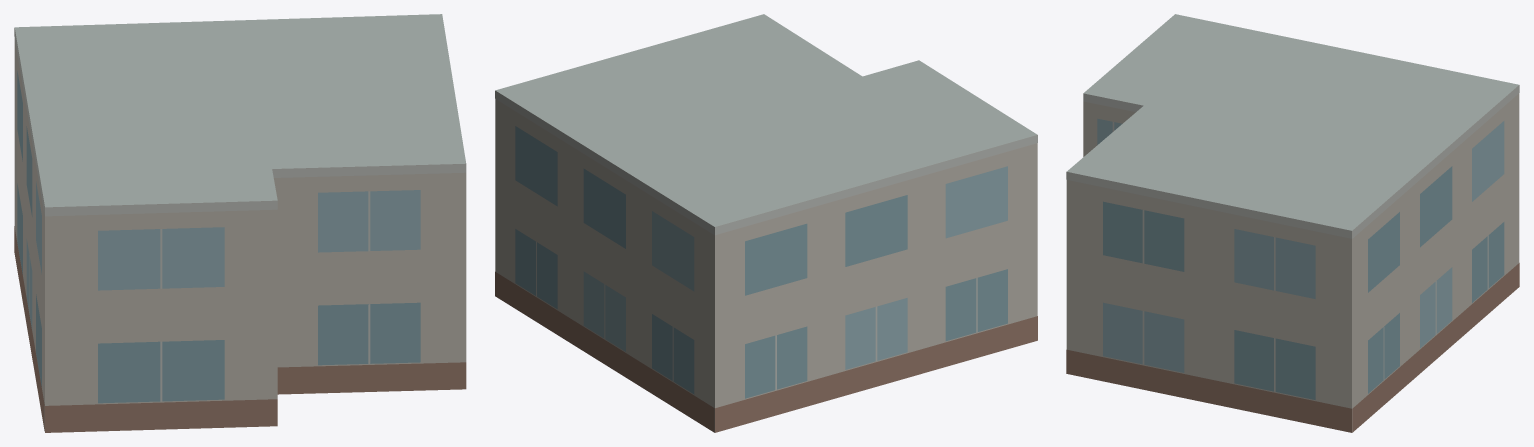
File: survey-upis-32828752.glb
3 renders of one model, left to right at view 1: azimuth 30°, elevation 25°; view 2: azimuth 150°, elevation 25°; view 3: azimuth 270°, elevation 25°, orthographic. The views are drawn at different scales.
Visible parts, largest first — view 1: survey-upis-32828752.tmp; view 2: survey-upis-32828752.tmp; view 3: survey-upis-32828752.tmp.
Boxes of the visible parts, left/top/right/bottom form: survey-upis-32828752.tmp: left=14, top=14, right=466, bottom=432; survey-upis-32828752.tmp: left=495, top=14, right=1037, bottom=432; survey-upis-32828752.tmp: left=1066, top=14, right=1519, bottom=432.
Size of the model in its own units: 14.05 by 6.1 by 12.4.
